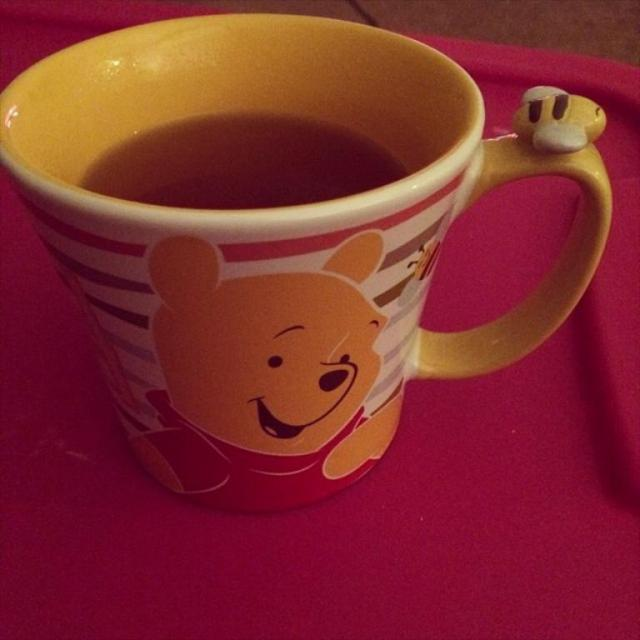Coffee: (78, 111, 409, 213)
Tea: (80, 109, 402, 211)
